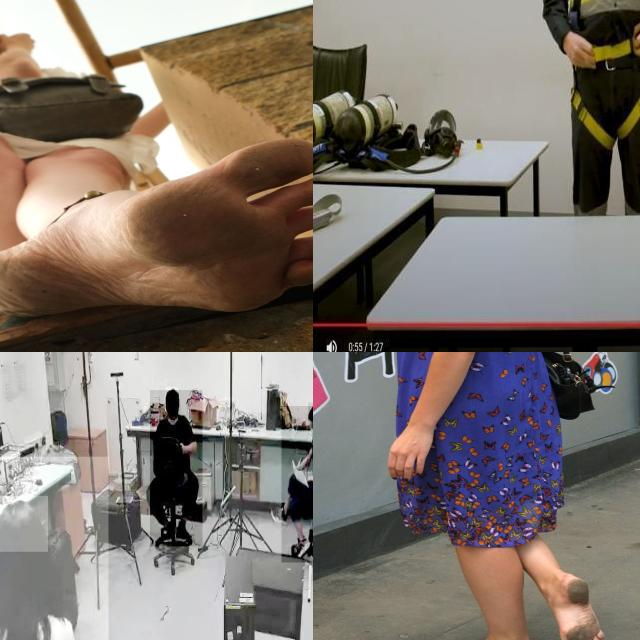Barefoots: (0, 137, 313, 317), (554, 574, 605, 640)
Harness: (567, 0, 640, 152)
face_mask: (168, 404, 180, 428), (309, 421, 313, 441)
glasses: (174, 518, 194, 548), (290, 535, 311, 561), (270, 507, 288, 525)
hand_noglove: (304, 471, 313, 481)
head_nohelmet: (0, 496, 48, 552), (165, 388, 179, 402), (307, 402, 313, 419)
person: (0, 456, 109, 640), (150, 390, 203, 547), (281, 405, 313, 563)
